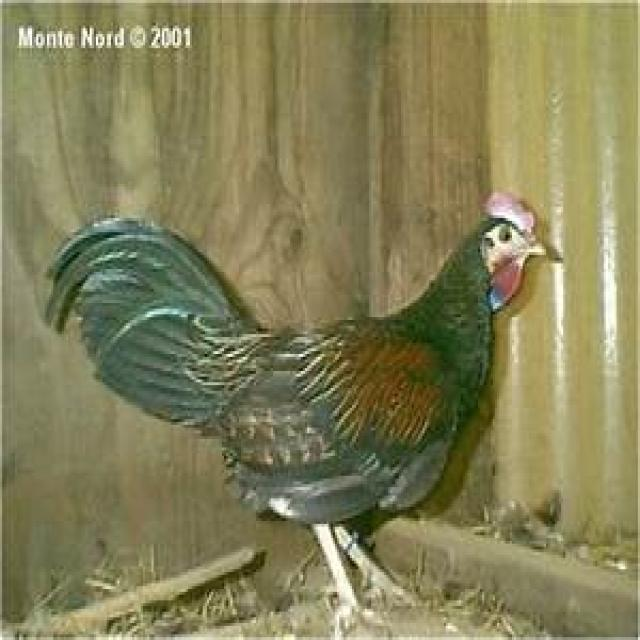hen: (43, 193, 557, 558)
